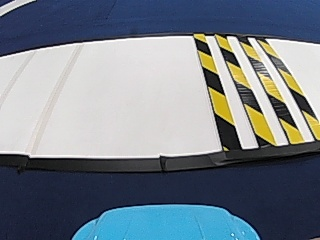bump: (181, 34, 309, 137)
